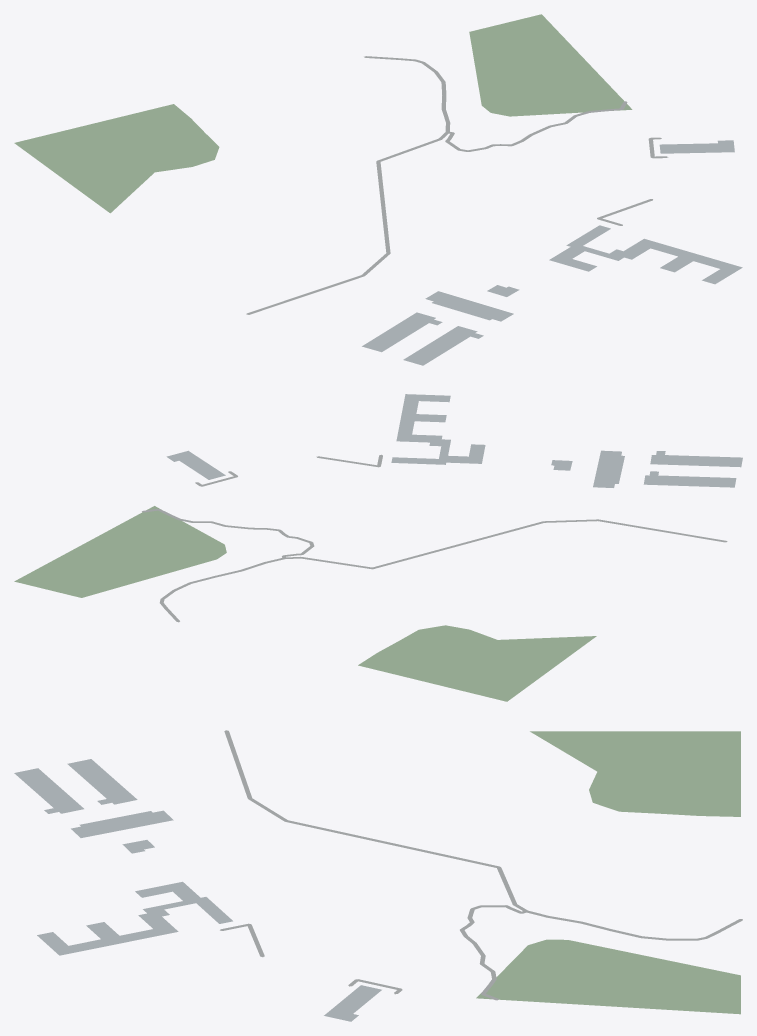
The model's file is -10_11-known-fine.glb.
3 views of the same model, one above another, from view 1: azimuth 30°, elevation 25°; view 2: azimuth 150°, elevation 25°; view 3: azimuth 270°, elevation 25° (orthographic). The views are drawn at different scales.
Size of the model in its own units: 440 by 0.15 by 465.
